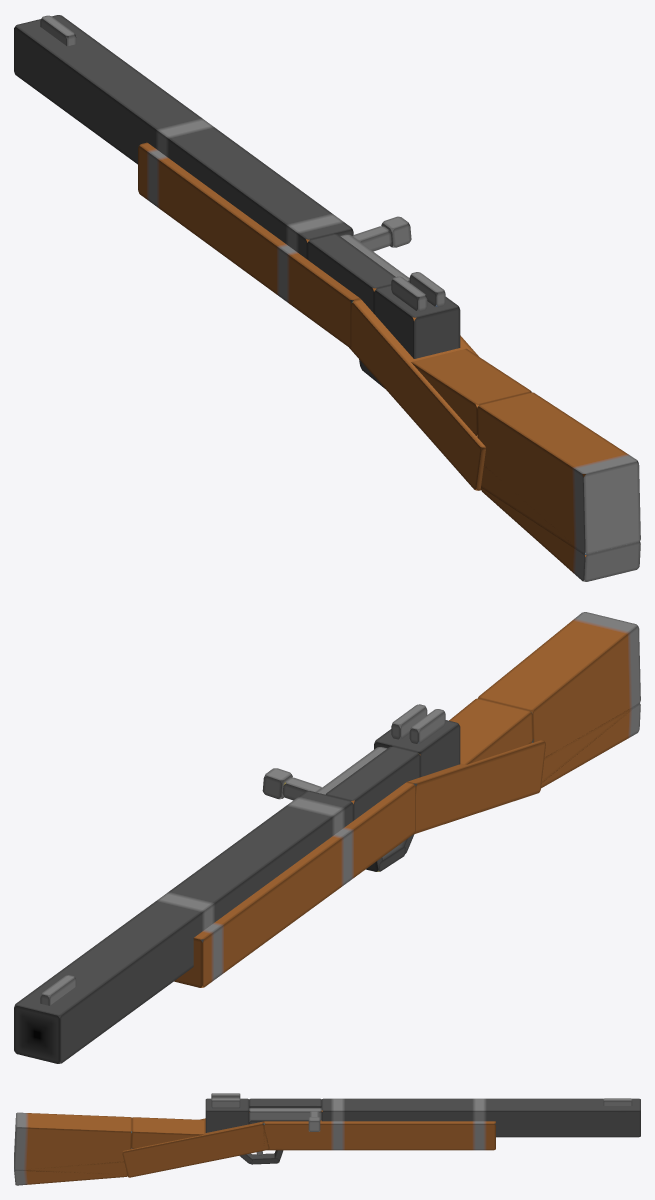
Rendered from rifle.fbx.
The picture shows the model from 3 angles, top to bottom: view 1: azimuth 30°, elevation 25°; view 2: azimuth 150°, elevation 25°; view 3: azimuth 270°, elevation 25°; orthographic projection. The views are drawn at different scales.
Parts seen in each view (by area): view 1: cube, cube_3, cube_1, cube_2, cube_4, cube_9, cube_5, cube_10; view 2: cube, cube_3, cube_1, cube_2, cube_4, cube_10, cube_5, cube_9, cube_8, cube_7, cube_14; view 3: cube, cube_1, cube_3, cube_2, cube_4, cube_5, cube_9, cube_10, cube_12, cube_7, cube_15, cube_6 (+2 smaller).
Part boxes in pixels (x1,y1,x2,y2): cube: (14,15,353,258); cube_3: (477,392,640,555); cube_1: (138,142,376,347); cube_2: (349,298,486,490); cube_4: (411,348,531,436); cube_9: (374,280,460,358); cube_5: (481,465,640,581); cube_10: (307,234,395,313); cube: (14,791,353,1063); cube_3: (478,612,640,782); cube_1: (174,782,415,987); cube_2: (407,740,545,834); cube_4: (449,698,532,764); cube_10: (326,746,420,820); cube_5: (541,703,640,788); cube_9: (374,720,460,777); cube_8: (409,709,445,743); cube_7: (391,704,427,739); cube_14: (262,768,292,799); cube: (321,1098,640,1137); cube_1: (263,1110,495,1150); cube_3: (14,1112,131,1174); cube_2: (122,1112,269,1177); cube_4: (131,1117,203,1148); cube_5: (14,1161,127,1185); cube_9: (205,1098,249,1132); cube_10: (249,1098,321,1112); cube_12: (249,1108,321,1121); cube_7: (211,1098,240,1108); cube_15: (250,1153,278,1164); cube_6: (603,1098,632,1105).
Bounding box in the file's own units: 22014 × 30984 × 216032.
Materials: 1 (1 with a texture image).
